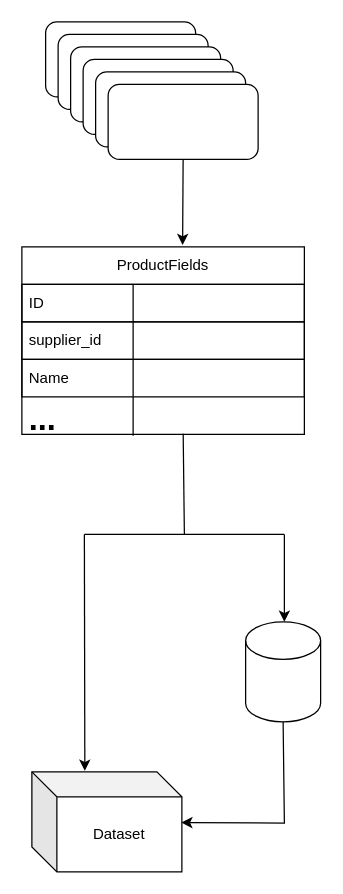
Image size: 343x894. Some labels were removed from this diagram. The centre of each missing label's shape, as x and y in pixels:
"db" belongs at point 282,671.
"Structured Data" belongs at point 182,121.
